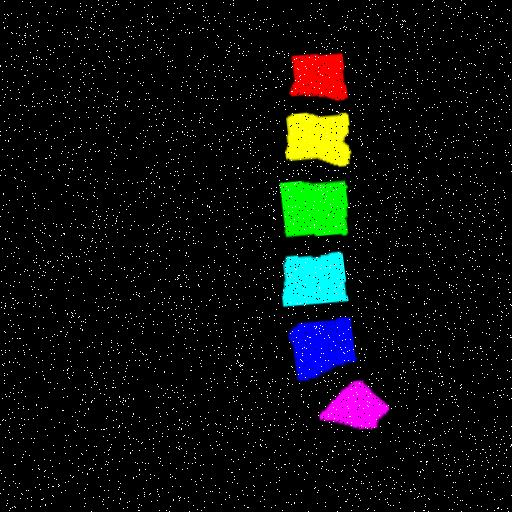L1: (290, 52, 348, 97)
L2: (286, 111, 352, 163)
L3: (280, 179, 348, 236)
L4: (283, 250, 349, 304)
L5: (289, 314, 356, 377)
S1: (319, 378, 389, 426)
